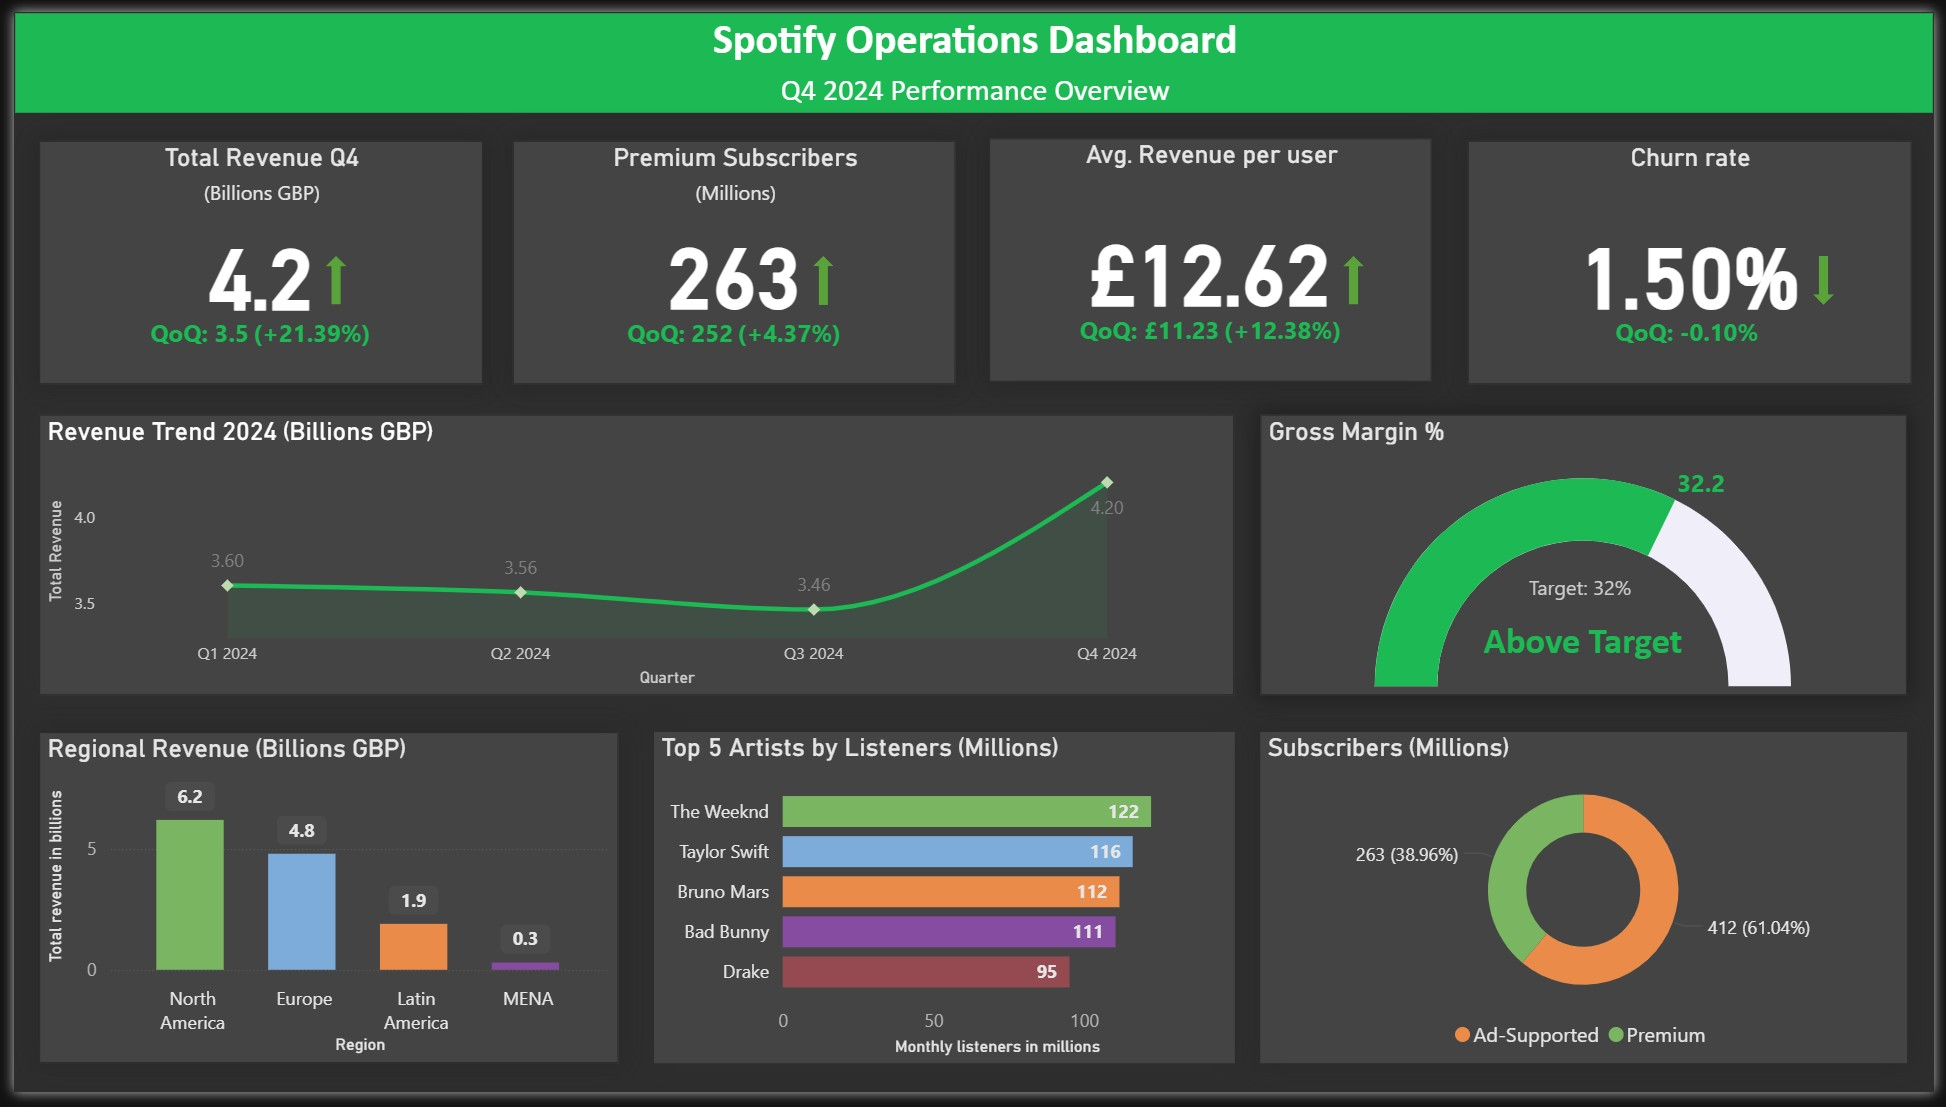

The page's visual inventory and layout, read from the dashboard file:
{"tool":"powerbi","page":{"name":"Page 1","canvas":[1280,720],"ordinal":0},"visuals":[{"type":"kpi","title":"Total Revenue Q4","fields":{"Indicator":["Measures (2).Q4_2024_Revenue"],"Goal":["Measures (2).Q3_2024_Revenue"],"TrendLine":["Revenue_Data.Quarter"]},"box":[16.9,85.6,295.6,162.5],"z":0},{"type":"textbox","title":"Spotify Operations Dashboard","box":[0,0,1280,68],"z":1000},{"type":"lineChart","title":"Revenue Trend 2024 (Billions GBP)","fields":{"Category":["Revenue_Data.Quarter"],"Y":["Sum(Revenue_Data.Total_Revenue_GBP_Billions)"]},"box":[17.1,268.1,796.7,187.6],"z":2000},{"type":"gauge","title":"Gross Margin %","fields":{"Y":["Measures (2).Q4_GM"]},"box":[830.8,268.1,431,187.6],"z":3000},{"type":"clusteredColumnChart","title":"Regional Revenue (Billions GBP)","fields":{"Category":["Regional_Data.Region"],"Y":["Sum(Regional_Data.Revenue_2024_GBP_Billions)"]},"box":[17.1,480.3,386.5,220.7],"z":4000},{"type":"clusteredBarChart","title":"Top 5 Artists by Listeners (Millions)","fields":{"Category":["Top_Artists.Artist_Name"],"Y":["Sum(Top_Artists.Monthly_Listeners_Millions)"]},"box":[426.3,480.3,387.4,220.7],"z":5000},{"type":"donutChart","title":"Subscribers (Millions)","fields":{"Category":["Subscriber_Mix.Type"],"Y":["Sum(Subscriber_Mix.Count_Millions)"]},"box":[830.8,480.3,431,220.7],"z":6000},{"type":"kpi","title":"Premium Subscribers","fields":{"Indicator":["Measures (2).Q4_Premium_Subscribers"],"Goal":["Measures (2).Q3_Premium_Subscribers"],"TrendLine":["Revenue_Data.Quarter"]},"box":[332.2,85.6,295.6,162.2],"z":7000},{"type":"kpi","title":"Avg. Revenue per user ","fields":{"Indicator":["Measures (2).Q4_ARPU"],"Goal":["Measures (2).Q3_ARPU"],"TrendLine":["Revenue_Data.Quarter"]},"box":[650,84.4,295.6,162.2],"z":8000},{"type":"kpi","title":"Churn rate","fields":{"Indicator":["Measures (2).Q4_Churn"],"Goal":["Measures (2).Churn_Change"],"TrendLine":["Revenue_Data.Quarter"]},"box":[969.1,85.9,295.6,162.2],"z":9000},{"type":"textbox","box":[1005,369,84,31],"z":10000},{"type":"shape","box":[207.8,162.5,14.4,32.5],"z":11000},{"type":"shape","box":[532.5,162.2,14.1,32.8],"z":12000},{"type":"shape","box":[885.6,162.5,14.4,32.5],"z":13000},{"type":"shape","box":[1199.4,162.2,14.4,32.8],"z":14000}]}

Visuals, with their boxes in screenshot pixels (x1, y1, x2, y2), scaled from the page's 1280x720 canvas onto the 1946x1107 screenshot:
"Total Revenue Q4" kpi: <box>26,132,475,381</box>
"Spotify Operations Dashboard" textbox: <box>0,0,1945,105</box>
"Revenue Trend 2024 (Billions GBP)" lineChart: <box>26,412,1237,701</box>
"Gross Margin %" gauge: <box>1263,412,1918,701</box>
"Regional Revenue (Billions GBP)" clusteredColumnChart: <box>26,738,614,1078</box>
"Top 5 Artists by Listeners (Millions)" clusteredBarChart: <box>648,738,1237,1078</box>
"Subscribers (Millions)" donutChart: <box>1263,738,1918,1078</box>
"Premium Subscribers" kpi: <box>505,132,954,381</box>
"Avg. Revenue per user " kpi: <box>988,130,1438,379</box>
"Churn rate" kpi: <box>1473,132,1923,381</box>
textbox: <box>1528,567,1656,615</box>
shape: <box>316,250,338,300</box>
shape: <box>810,249,831,300</box>
shape: <box>1346,250,1368,300</box>
shape: <box>1823,249,1845,300</box>
